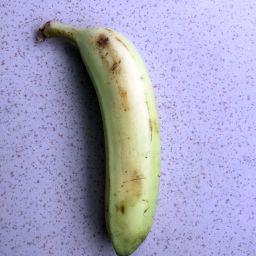Banana Ripe: (41, 12, 177, 256)
